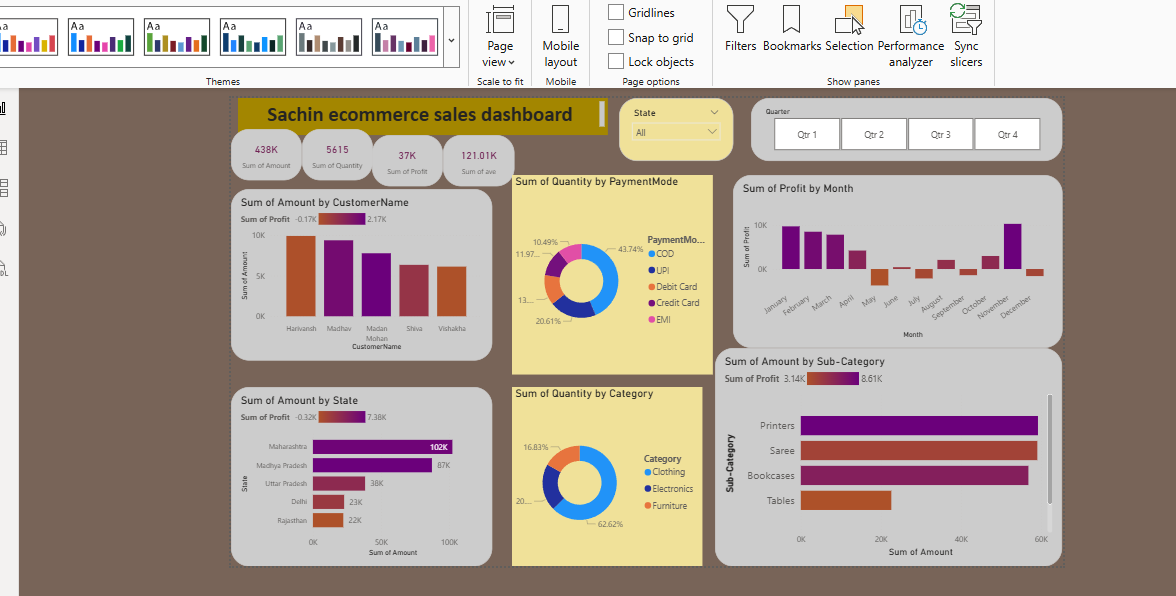

This screenshot's page, from the dashboard's own definition file:
{"tool":"powerbi","page":{"name":"Page 1","canvas":[1280,720],"ordinal":0},"visuals":[{"type":"textbox","box":[10.3,0,569,56.9],"z":0},{"type":"lineStackedColumnComboChart","fields":{"Category":["Orders.Order Date.Variation.Date Hierarchy.Month"],"Y":["Sum(Details.Profit)"]},"box":[772.4,119,506.9,265.5],"z":1000},{"type":"barChart","fields":{"Category":["Details.Sub-Category"],"Y":["Sum(Details.Amount)"]},"box":[744.8,384.5,534.5,336.2],"z":2000},{"type":"donutChart","fields":{"Category":["Details.Category"],"Y":["Sum(Details.Quantity)"]},"box":[432.8,444.8,293.1,275.9],"z":3000},{"type":"card","fields":{"Values":["Sum(Details.Amount)"]},"box":[0,48.3,108.6,79.3],"z":4000},{"type":"card","fields":{"Values":["Sum(Details.Quantity)"]},"box":[108.6,48.3,108.6,79.3],"z":5000},{"type":"card","fields":{"Values":["Sum(Details.Profit)"]},"box":[217.2,56.9,108.6,79.3],"z":6000},{"type":"card","fields":{"Values":["Sum(Details.ave)"]},"box":[325.9,56.9,110.3,79.3],"z":7000},{"type":"barChart","fields":{"Category":["Orders.State"],"Y":["Sum(Details.Amount)"]},"box":[0,444.8,401.7,275.9],"z":8000},{"type":"columnChart","fields":{"Category":["Orders.CustomerName"],"Y":["Sum(Details.Amount)"]},"box":[0,139.7,401.7,263.8],"z":9000},{"type":"donutChart","fields":{"Category":["Details.PaymentMode","Details.Category"],"Y":["Sum(Details.Quantity)"]},"box":[432.8,119,308.6,306.9],"z":10000},{"type":"slicer","fields":{"Values":["Orders.Order Date.Variation.Date Hierarchy.Quarter"]},"box":[800,0,479.3,96.6],"z":11000},{"type":"slicer","fields":{"Values":["Orders.State"]},"box":[596.6,0,175.9,96.6],"z":12000}]}

Visuals, with their boxes on the page's 1280x720 design canvas (x1, y1, x2, y2). These are canvas units, not pixel positions in the 1176x596 screenshot, which may show the page scaled, cropped or inside an application window:
textbox: rect(10, 0, 579, 57)
lineStackedColumnComboChart - Orders.Order Date.Variation.Date Hierarchy.Month x Sum(Details.Profit): rect(772, 119, 1279, 384)
barChart - Details.Sub-Category x Sum(Details.Amount): rect(745, 384, 1279, 721)
donutChart - Details.Category x Sum(Details.Quantity): rect(433, 445, 726, 721)
card - Sum(Details.Amount): rect(0, 48, 109, 128)
card - Sum(Details.Quantity): rect(109, 48, 217, 128)
card - Sum(Details.Profit): rect(217, 57, 326, 136)
card - Sum(Details.ave): rect(326, 57, 436, 136)
barChart - Orders.State x Sum(Details.Amount): rect(0, 445, 402, 721)
columnChart - Orders.CustomerName x Sum(Details.Amount): rect(0, 140, 402, 404)
donutChart - Details.PaymentMode x Details.Category: rect(433, 119, 741, 426)
slicer - Orders.Order Date.Variation.Date Hierarchy.Quarter: rect(800, 0, 1279, 97)
slicer - Orders.State: rect(597, 0, 772, 97)
